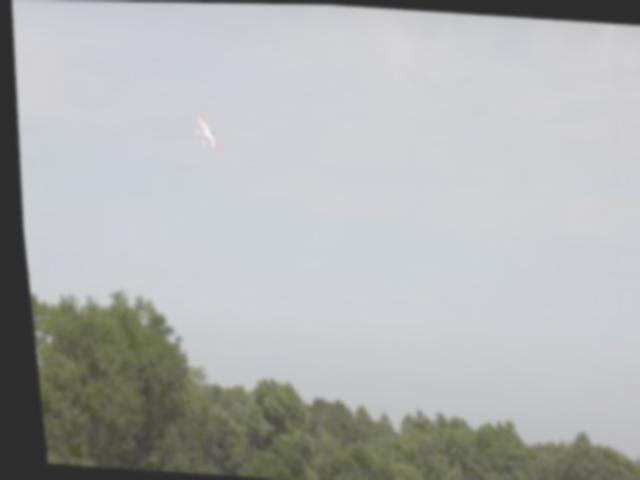uav: (188, 111, 220, 156)
